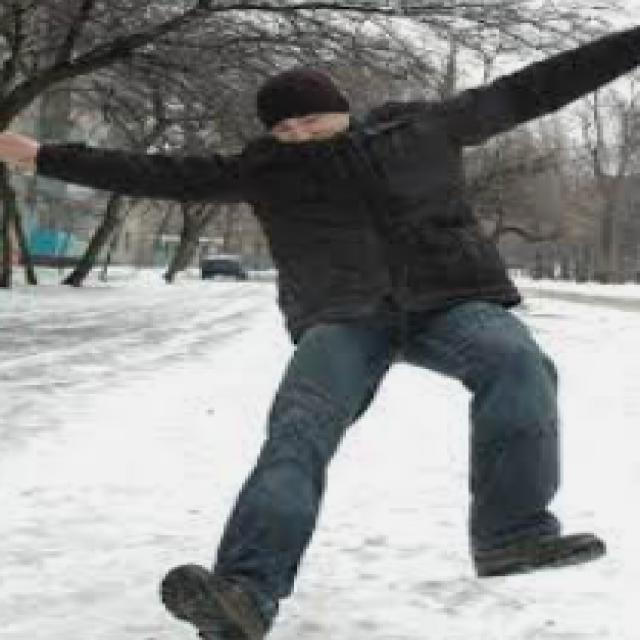fall: (113, 30, 636, 620)
